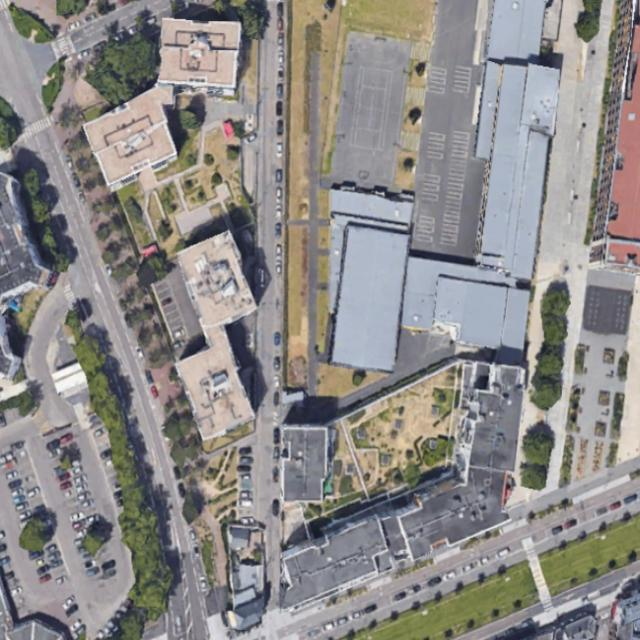immeuble: (264, 459, 511, 612), (446, 362, 525, 521), (77, 88, 185, 187), (172, 230, 260, 332), (174, 343, 255, 440), (156, 18, 240, 86), (277, 427, 325, 502)
